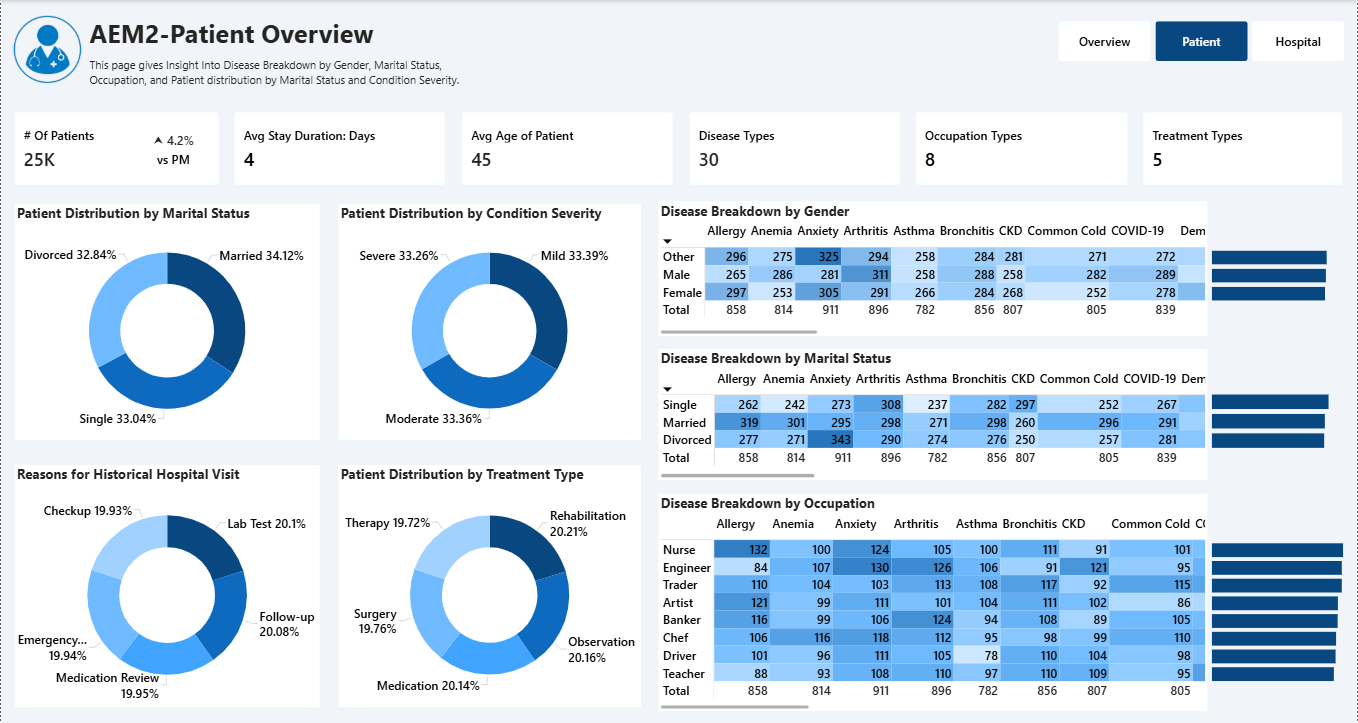

Layout of this report page (visuals, bound fields, positions):
{"tool":"powerbi","page":{"name":"Patient","canvas":[3000,1600],"ordinal":1},"visuals":[{"type":"barChart","title":"Patient by Occupation","fields":{"Category":["Patient_Profile.Occupation"],"Y":["CountNonNull(Patient_Profile.Patient_ID)"]},"box":[2673.1,1188.7,323.4,323.4],"z":0},{"type":"barChart","fields":{"Category":["Patient_Profile.Marital_Status"],"Y":["CountNonNull(Patient_Profile.Patient_ID)"]},"box":[2673.1,859.7,312.4,138.2],"z":1000},{"type":"pivotTable","title":"Disease Breakdown by Marital Status","fields":{"Rows":["Patient_Profile.Marital_Status"],"Values":["CountNonNull(Patient_Profile.Patient_ID)"],"Columns":["Patient_Treatment.Disease"]},"box":[1454.1,771.3,1213.6,290.3],"z":2000},{"type":"pivotTable","title":"Disease Breakdown by Occupation","fields":{"Rows":["Patient_Profile.Occupation"],"Columns":["Healthcare_with_realistic_dates.Disease"],"Values":["CountNonNull(Healthcare_with_realistic_dates.Patient_ID)"]},"box":[1454.1,1091.9,1213.6,481],"z":3000},{"type":"pivotTable","title":"Disease Breakdown by Gender","fields":{"Rows":["Healthcare_with_realistic_dates.Gender"],"Values":["CountNonNull(Healthcare_with_realistic_dates.Patient_ID)"],"Columns":["Healthcare_with_realistic_dates.Disease"]},"box":[1454.1,445.1,1213.6,298.6],"z":4000},{"type":"barChart","fields":{"Category":["Healthcare_with_realistic_dates.Gender"],"Y":["CountNonNull(Healthcare_with_realistic_dates.Patient_ID)"]},"box":[2673.1,541.8,312.4,129.9],"z":5000},{"type":"image","box":[13.8,19.4,176.9,179.7],"z":6000},{"type":"textbox","box":[190.7,30.4,829.3,182.4],"z":7000},{"type":"cardVisual","fields":{"Data":["Count(Patient_Treatment.Patient_ID)"]},"box":[30.4,248.8,450,160],"z":8000},{"type":"donutChart","title":"Patient Distribution by Marital Status","fields":{"Category":["Patient_Profile.Marital_Status"],"Y":["CountNonNull(Patient_Profile.Patient_ID)"]},"box":[30.4,450.6,674.5,522.5],"z":9000},{"type":"cardVisual","fields":{"Data":["Count(Patient_Treatment.Disease)"]},"box":[1523.2,248.8,464.4,160.3],"z":10000},{"type":"cardVisual","fields":{"Data":["Avg(Healthcare_with_realistic_dates.Age)"]},"box":[1020,248.8,464.4,160.3],"z":11000},{"type":"donutChart","title":"Patient Distribution by Condition Severity","fields":{"Y":["CountNonNull(Patient_History.Patient_ID)"],"Category":["Patient_History.Condition_Severity"]},"box":[746.4,450.6,669,522.5],"z":12000},{"type":"cardVisual","fields":{"Data":["Avg(Patient_Treatment.Length of Stay)"]},"box":[517.7,248.8,465,160],"z":13000},{"type":"cardVisual","fields":{"Data":["Count(Patient_Profile.Occupation)"]},"box":[2023.5,248.8,467.2,160.3],"z":14000},{"type":"cardVisual","fields":{"Data":["Count(Patient_Treatment.Treatment_Type)"]},"box":[2526.6,248.8,439.5,160.3],"z":15000},{"type":"pageNavigator","box":[2338.6,47,633,88.5],"z":16000},{"type":"donutChart","title":"Reasons for Historical Hospital Visit","fields":{"Category":["Patient_History.Visit_Type"],"Y":["CountNonNull(Patient_History.Patient_ID)"]},"box":[30.4,1028.3,674.5,536.3],"z":17000},{"type":"donutChart","title":"Patient Distribution by Treatment Type","fields":{"Category":["Patient_Treatment.Treatment_Type"],"Y":["CountNonNull(Patient_Treatment.Patient_ID)"]},"box":[746.4,1028.3,669,536.3],"z":18000}]}

Visuals, with their boxes in screenshot pixels (x1, y1, x2, y2), scaled from the page's 3000x1600 canvas onto the 1358x723 screenshot:
"Patient by Occupation" barChart: bbox=[1210, 537, 1356, 683]
barChart - Patient_Profile.Marital_Status x CountNonNull(Patient_Profile.Patient_ID): bbox=[1210, 388, 1351, 451]
"Disease Breakdown by Marital Status" pivotTable: bbox=[658, 349, 1208, 480]
"Disease Breakdown by Occupation" pivotTable: bbox=[658, 493, 1208, 711]
"Disease Breakdown by Gender" pivotTable: bbox=[658, 201, 1208, 336]
barChart - Healthcare_with_realistic_dates.Gender x CountNonNull(Healthcare_with_realistic_dates.Patient_ID): bbox=[1210, 245, 1351, 304]
image: bbox=[6, 9, 86, 90]
textbox: bbox=[86, 14, 462, 96]
cardVisual - Count(Patient_Treatment.Patient_ID): bbox=[14, 112, 217, 185]
"Patient Distribution by Marital Status" donutChart: bbox=[14, 204, 319, 440]
cardVisual - Count(Patient_Treatment.Disease): bbox=[690, 112, 900, 185]
cardVisual - Avg(Healthcare_with_realistic_dates.Age): bbox=[462, 112, 672, 185]
"Patient Distribution by Condition Severity" donutChart: bbox=[338, 204, 641, 440]
cardVisual - Avg(Patient_Treatment.Length of Stay): bbox=[234, 112, 445, 185]
cardVisual - Count(Patient_Profile.Occupation): bbox=[916, 112, 1127, 185]
cardVisual - Count(Patient_Treatment.Treatment_Type): bbox=[1144, 112, 1343, 185]
pageNavigator: bbox=[1059, 21, 1345, 61]
"Reasons for Historical Hospital Visit" donutChart: bbox=[14, 465, 319, 707]
"Patient Distribution by Treatment Type" donutChart: bbox=[338, 465, 641, 707]
